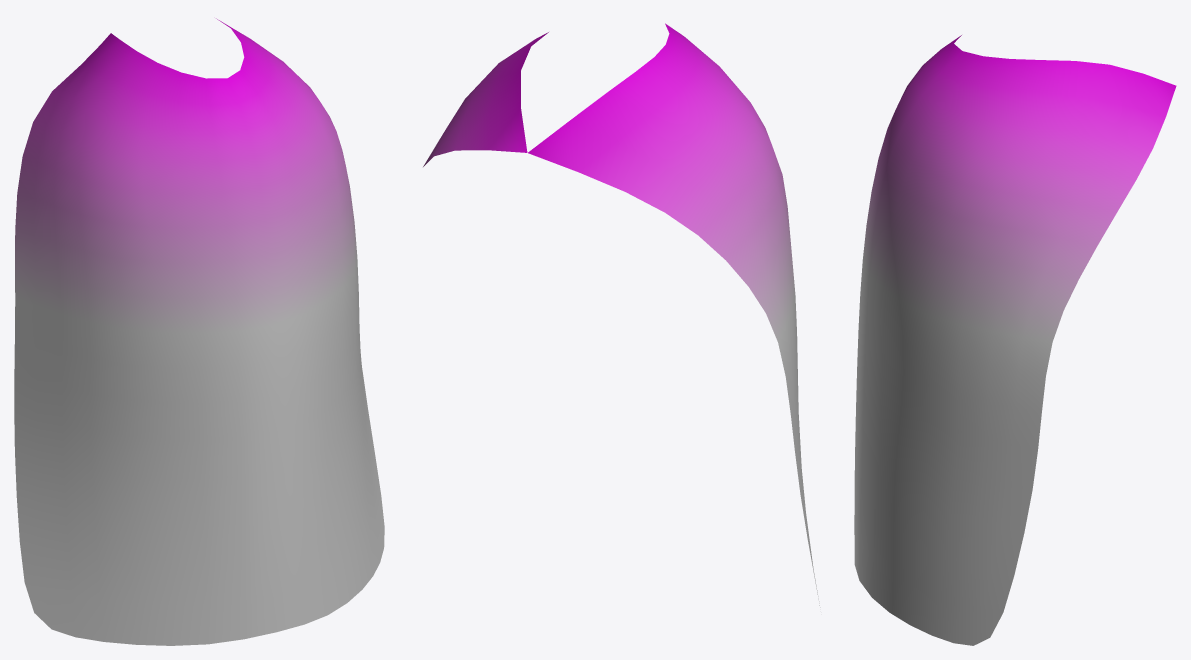
File: player_cape.gltf
3 views of the same model, side by side, from view 1: azimuth 30°, elevation 25°; view 2: azimuth 150°, elevation 25°; view 3: azimuth 270°, elevation 25° (orthographic). The views are drawn at different scales.
Parts seen in each view (by area): view 1: Cape; view 2: Cape; view 3: Cape.
Part boxes in pixels (x1,y1,x2,y2): Cape: (14, 18, 384, 645); Cape: (423, 23, 820, 607); Cape: (854, 35, 1176, 645).
Size of the model in its own units: 1.36 by 1.93 by 1.06.
